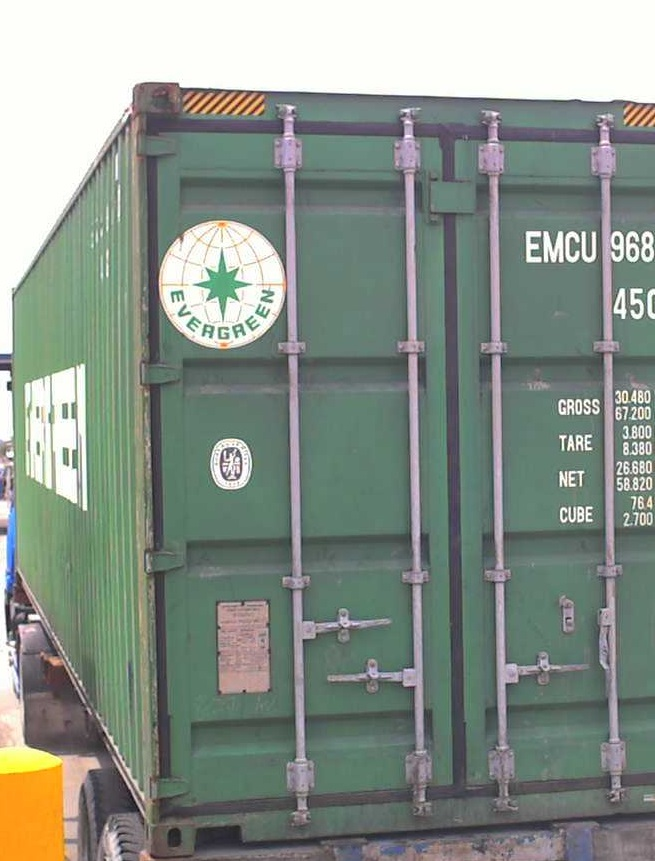container_door: (131, 80, 654, 856)
